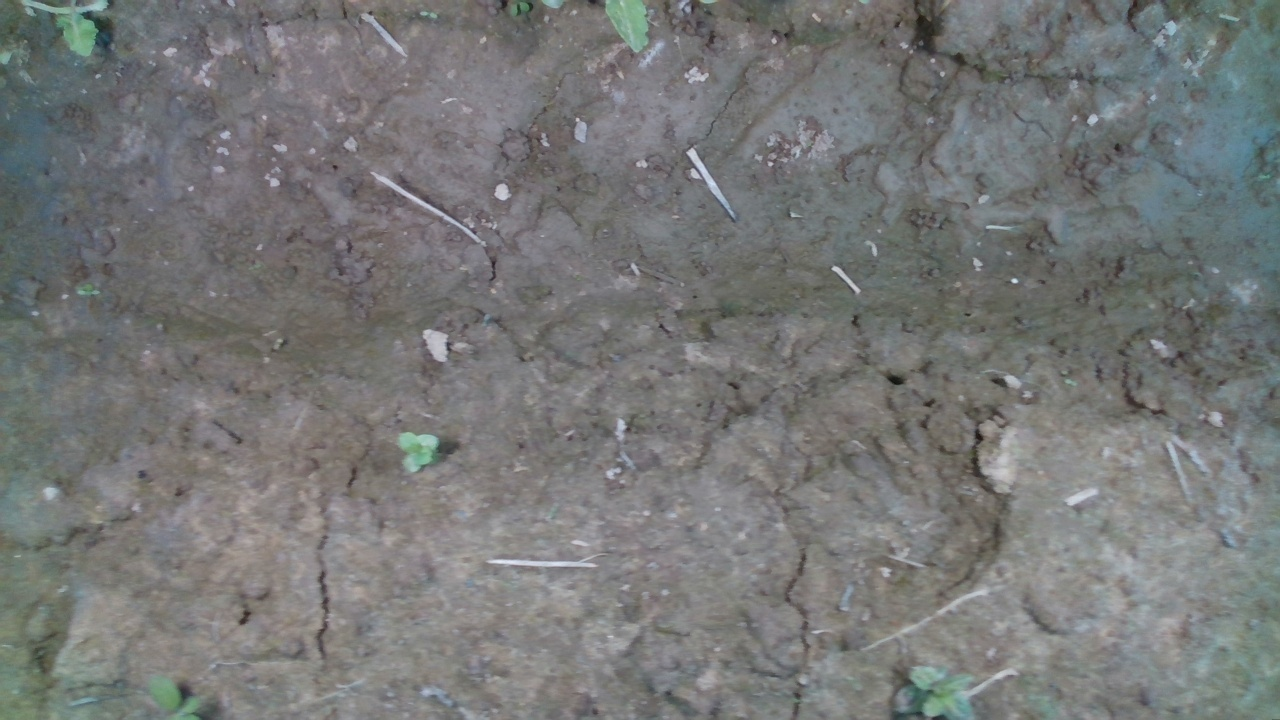weed: (1059, 372, 1092, 391), (72, 280, 96, 300)
